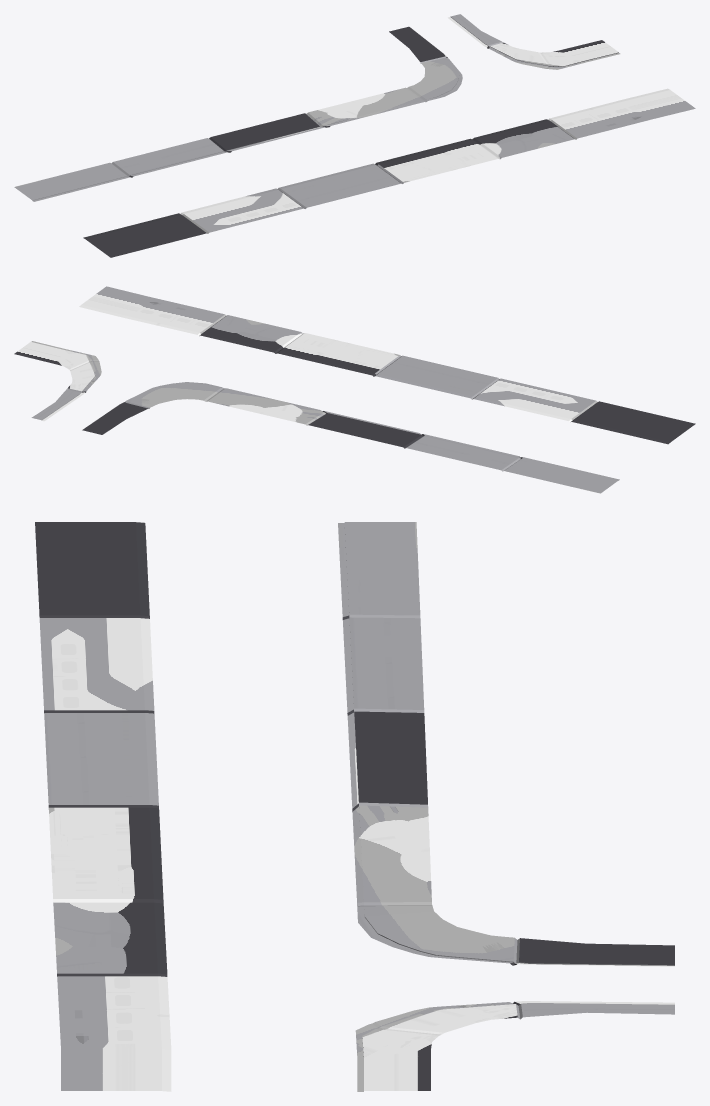
The model's file is Pavement.fbx.
3 views of the same model, one above another, from view 1: azimuth 30°, elevation 25°; view 2: azimuth 150°, elevation 25°; view 3: azimuth 270°, elevation 25° (orthographic). The views are drawn at different scales.
Visible parts, largest first — view 1: Pavement; view 2: Pavement; view 3: Pavement.
Boxes of the visible parts, x1=… form: Pavement: x1=14, y1=14, x2=695, y2=257; Pavement: x1=14, y1=286, x2=695, y2=493; Pavement: x1=35, y1=522, x2=674, y2=1091.
Bounding box in the file's own units: 5314 × 12.35 × 2526.
